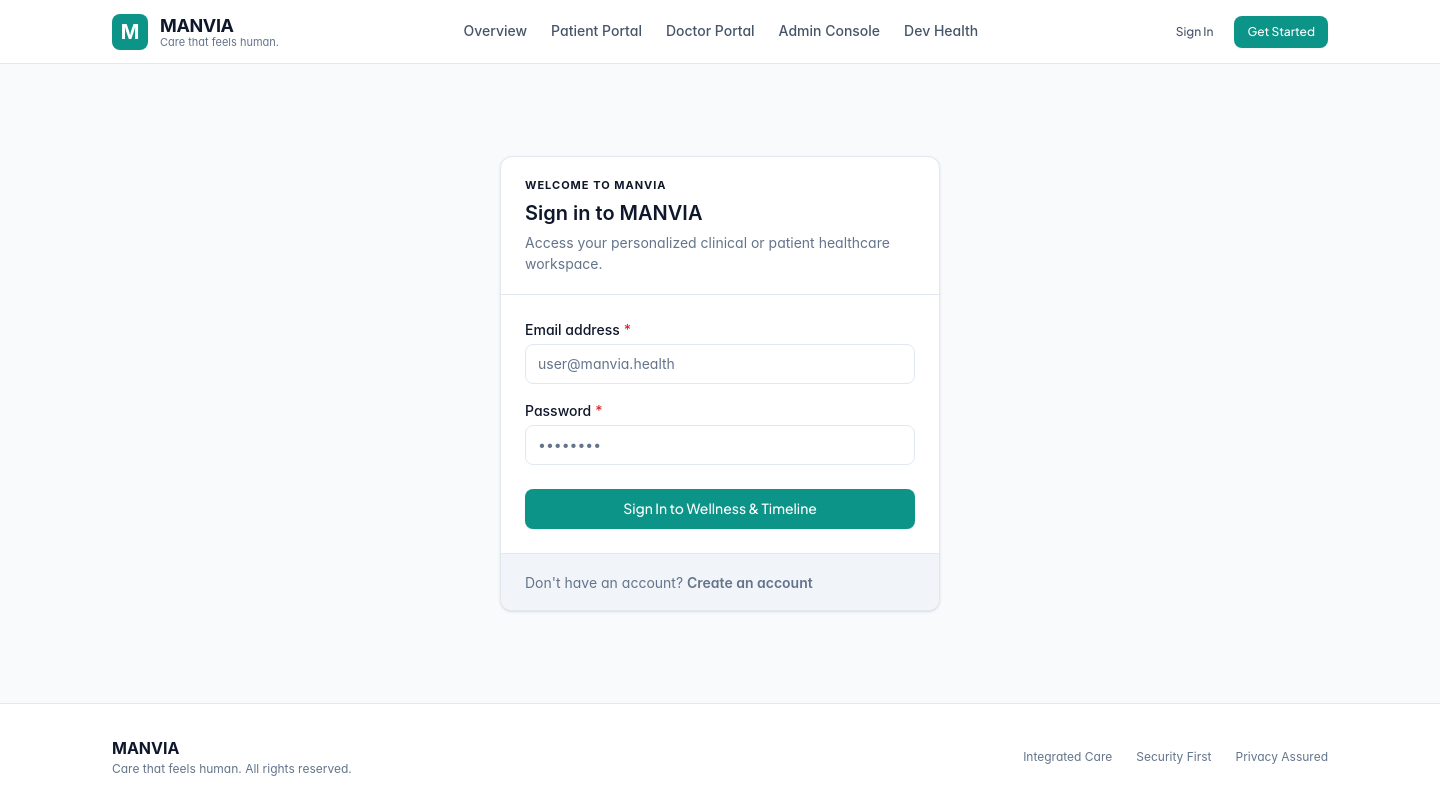
Test: MANVIA Login View Component › displays server error alert when authentication fails (401 invalid credentials)
Step 1. Type "patient@manvia.health" into the field labelled "Email address *" → (720,364), box [525,344,915,384]
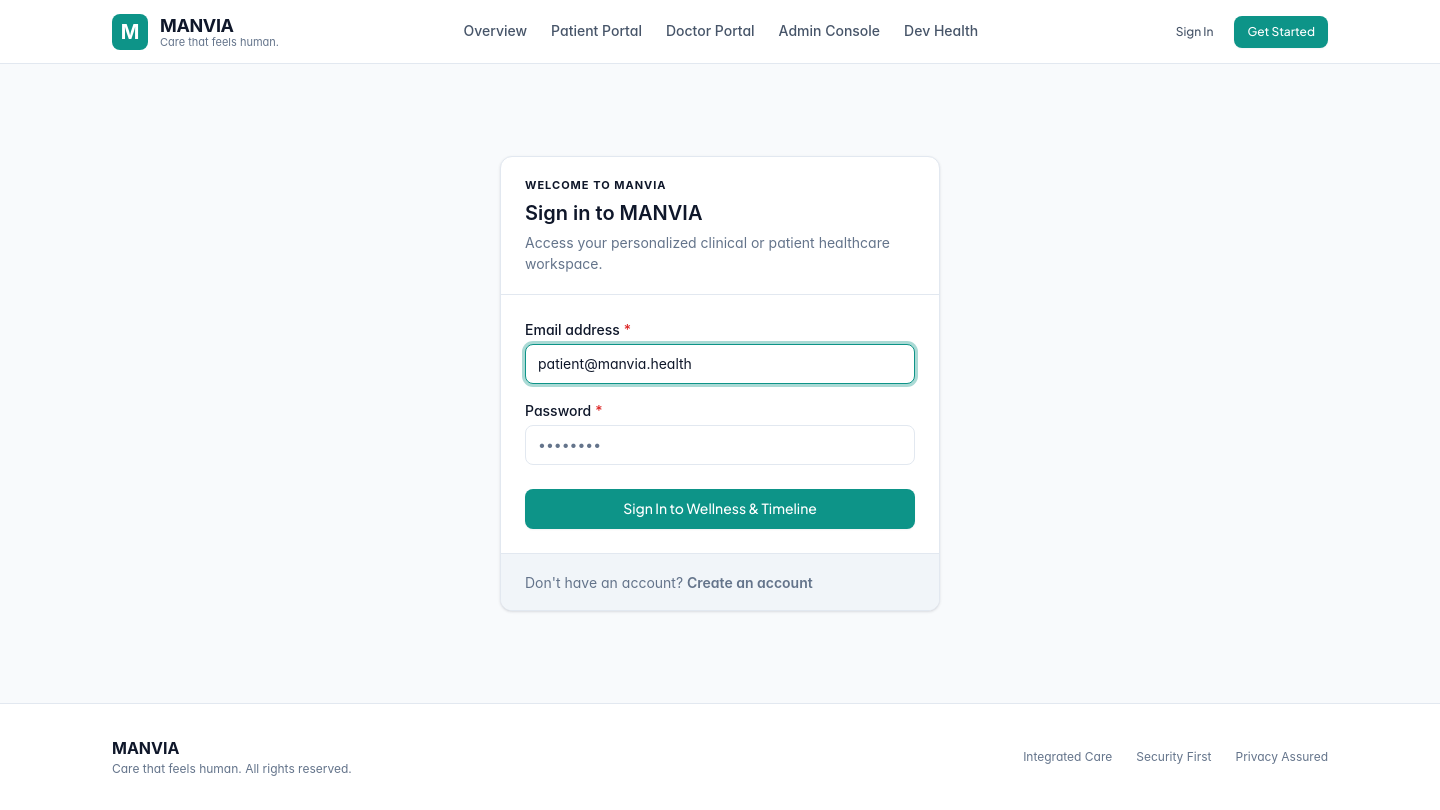
Step 2. Type "WrongPassword123!" into the password field labelled "Password *" → (720,445), box [525,425,915,465]
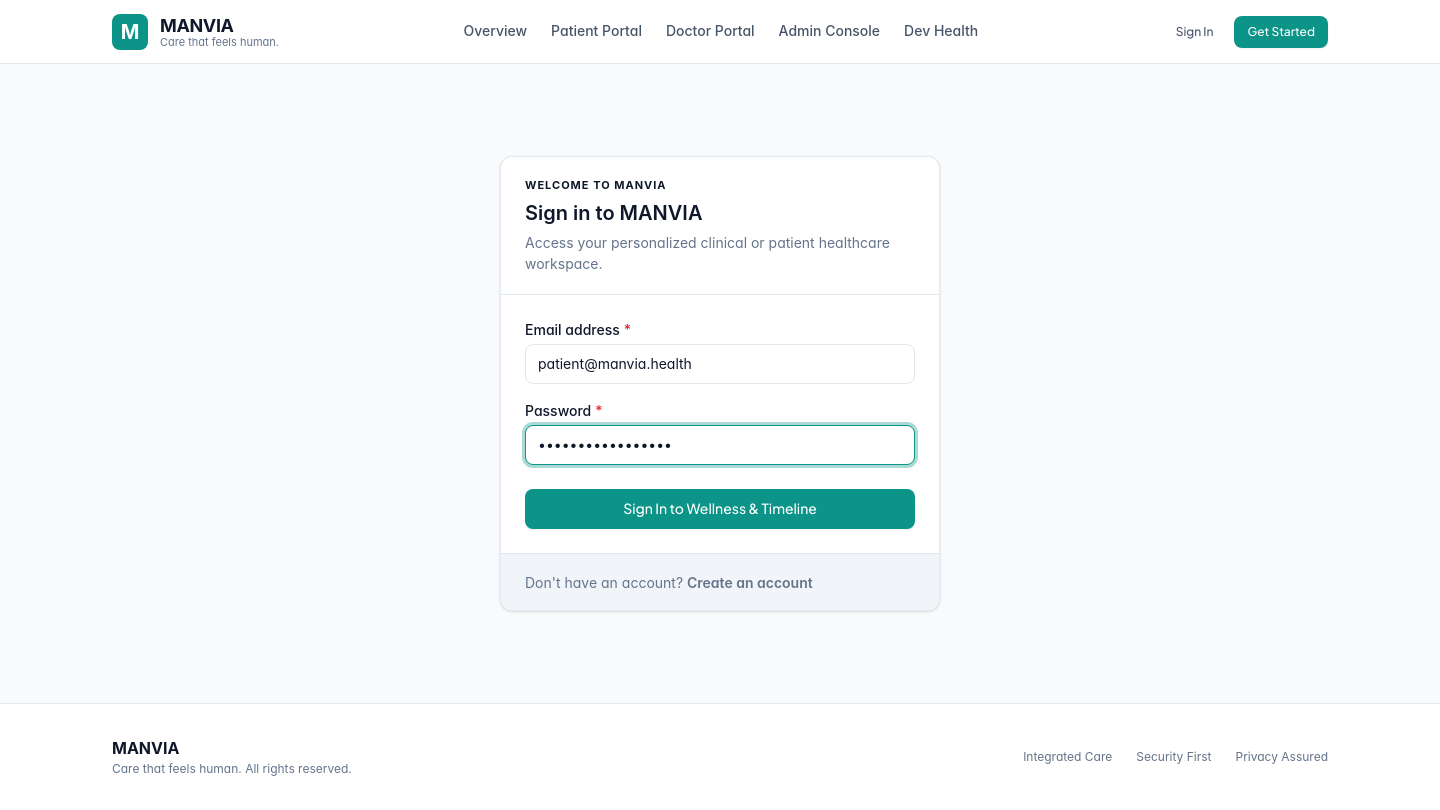
Step 3. Click the button with test id "login-submit-button" → (720,509), box [525,489,915,529]
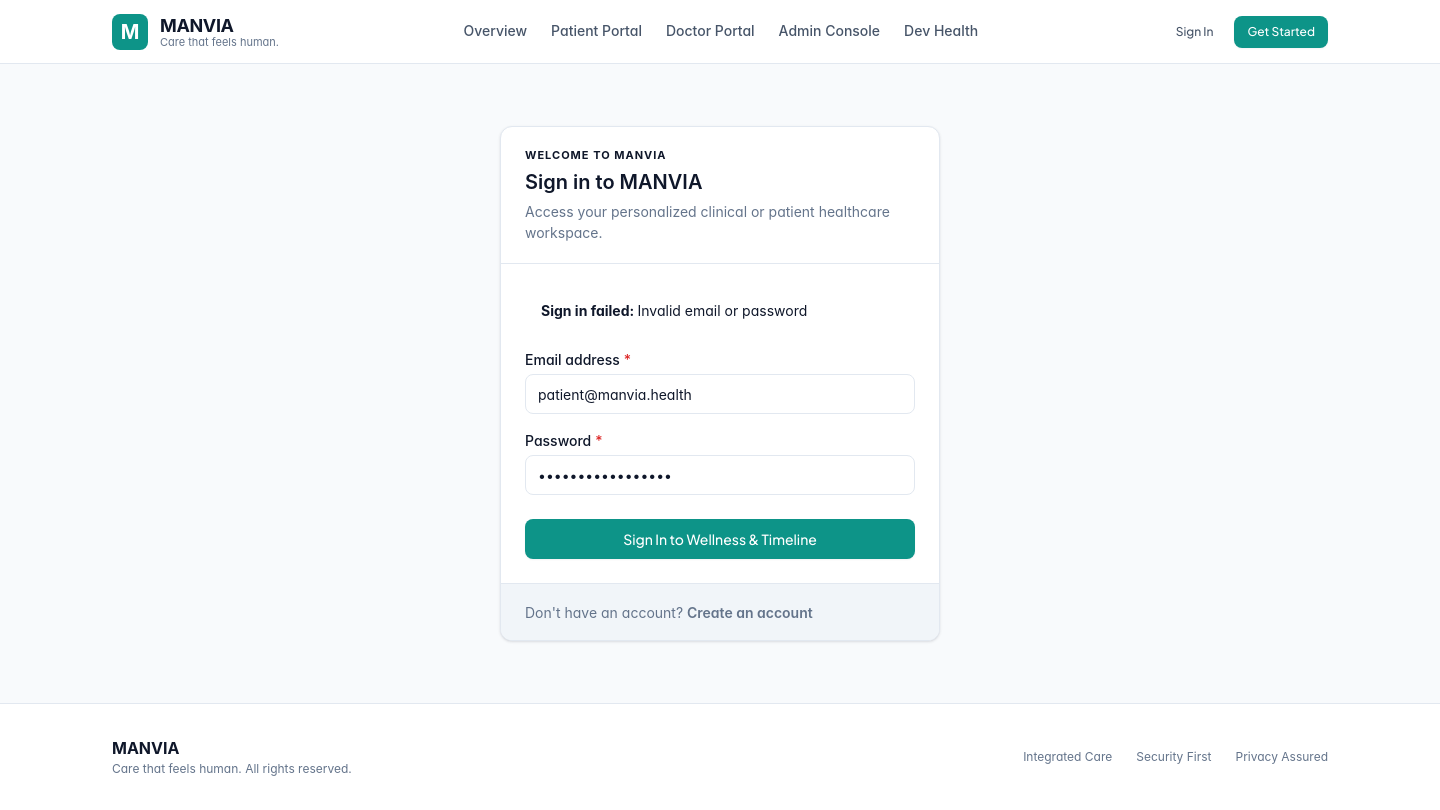
Result: the text "Sign in failed: Invalid email or password" is shown at [541,302,807,319]
